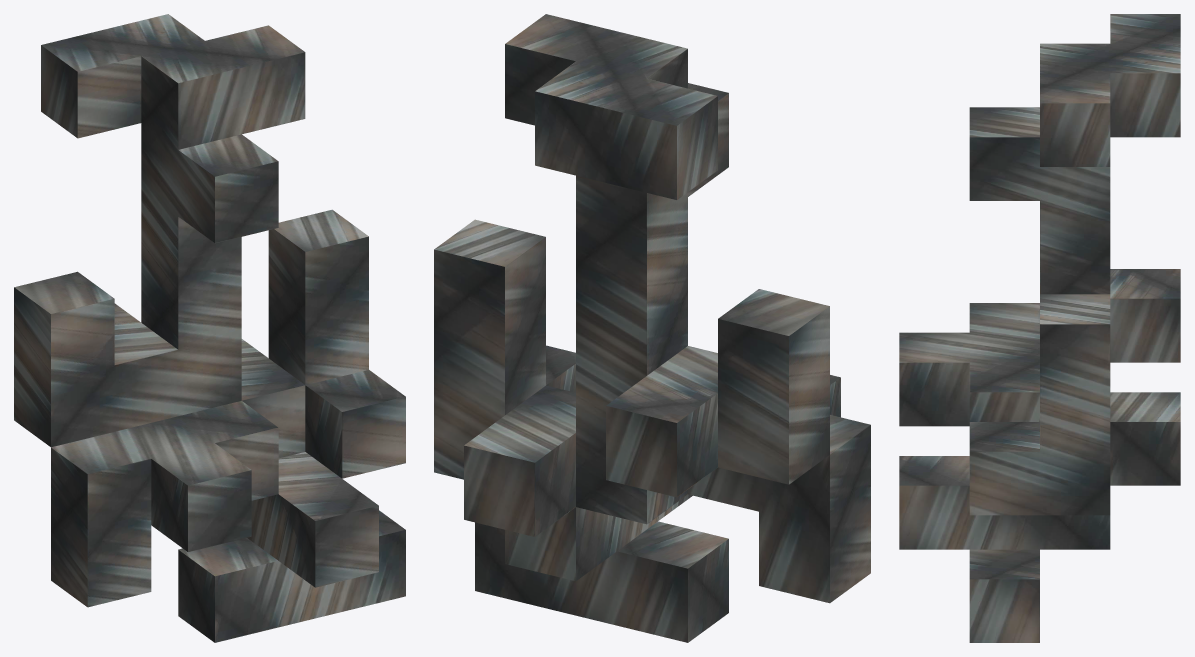
File: Blockone.fbx
3 views of the same model, side by side, from view 1: azimuth 30°, elevation 25°; view 2: azimuth 150°, elevation 25°; view 3: azimuth 270°, elevation 25° (orthographic). The views are drawn at different scales.
Visible parts, largest first — view 1: Blockone; view 2: Blockone; view 3: Blockone.
Part boxes in pixels (x1,y1,x2,y2): Blockone: (14, 14, 405, 642); Blockone: (434, 14, 870, 642); Blockone: (899, 14, 1180, 642).
Size of the model in its own units: 500 by 800 by 400.
1 material, 1 textured.
